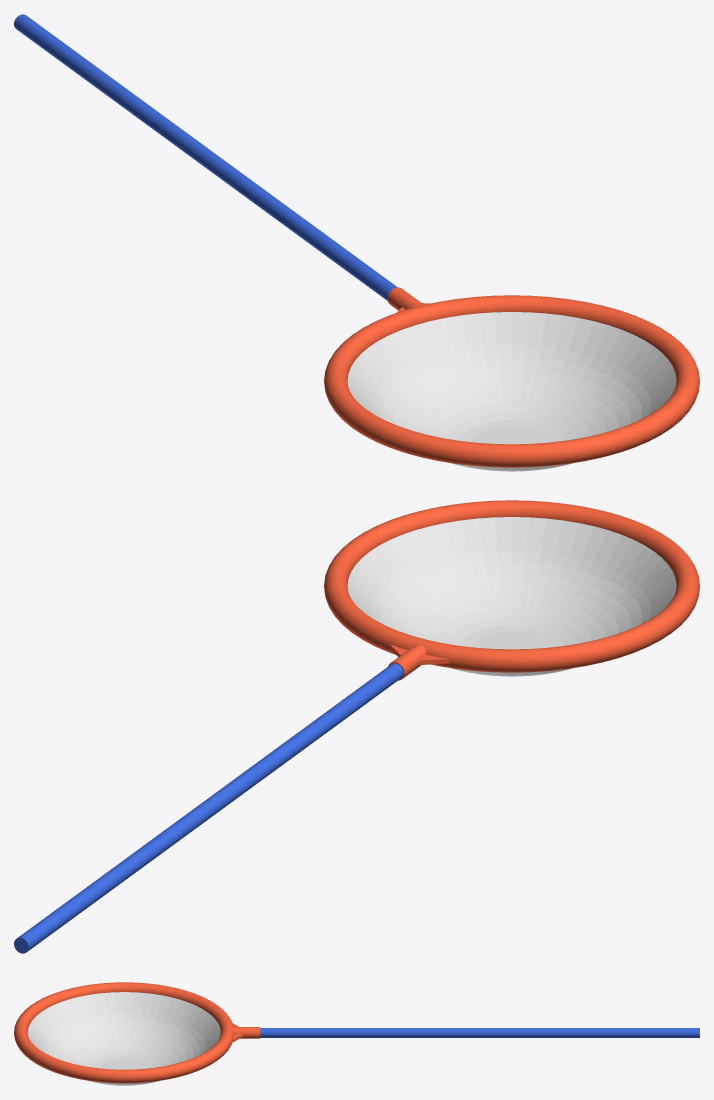
File: Poi.fbx
3 views of the same model, one above another, from view 1: azimuth 30°, elevation 25°; view 2: azimuth 150°, elevation 25°; view 3: azimuth 270°, elevation 25° (orthographic). The views are drawn at different scales.
Visible parts, largest first — view 1: Torus.001, Cylinder.002, Torus.002; view 2: Torus.001, Cylinder.002, Torus.002; view 3: Cylinder.002, Torus.001, Torus.002.
Part boxes in pixels (x1=…): Torus.001: x1=347, y1=312, x2=676, y2=471; Cylinder.002: x1=14, y1=14, x2=699, y2=467; Torus.002: x1=351, y1=315, x2=676, y2=469; Torus.001: x1=347, y1=517, x2=675, y2=676; Cylinder.002: x1=14, y1=500, x2=699, y2=953; Torus.002: x1=351, y1=517, x2=676, y2=675; Cylinder.002: x1=14, y1=982, x2=699, y2=1083; Torus.001: x1=54, y1=992, x2=220, y2=1085; Torus.002: x1=27, y1=992, x2=178, y2=1084.
Size of the model in its own units: 987 by 209 by 3070.
